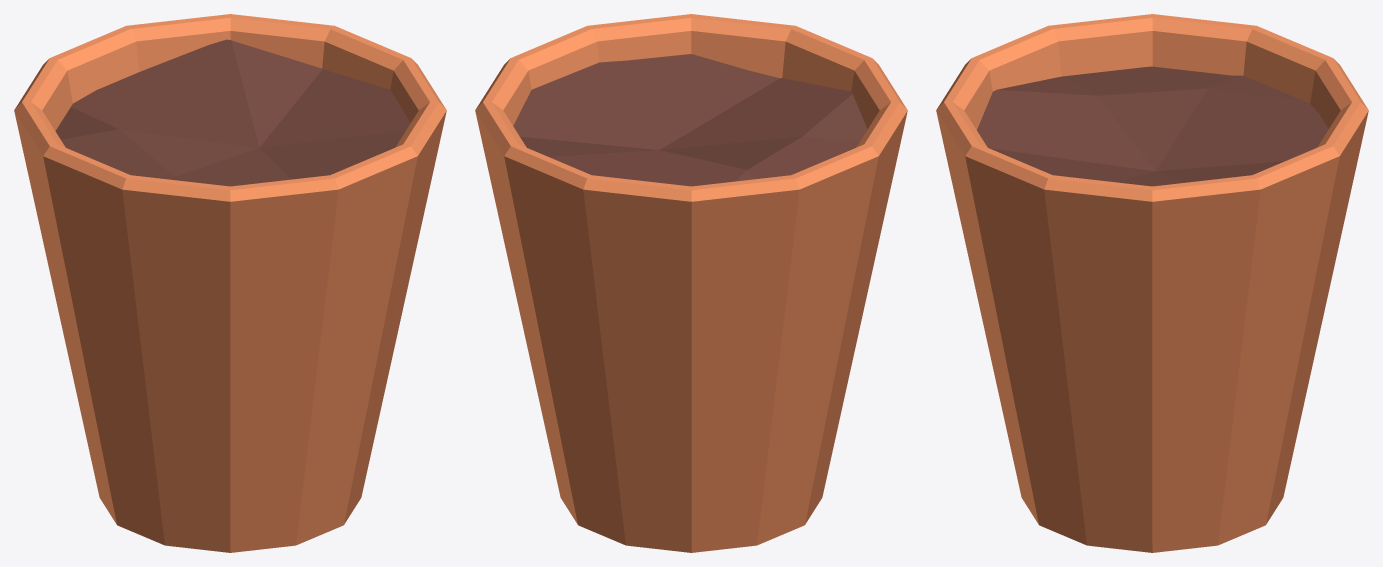
Rendered from Pot.001.fbx.
The picture shows the model from 3 angles, left to right: view 1: azimuth 30°, elevation 25°; view 2: azimuth 150°, elevation 25°; view 3: azimuth 270°, elevation 25°; orthographic projection.
Visible parts, largest first — view 1: Pot.001; view 2: Pot.001; view 3: Pot.001.
Boxes of the visible parts, x1,y1,x2,y2 form: Pot.001: (14, 14, 446, 552); Pot.001: (475, 14, 907, 552); Pot.001: (936, 14, 1368, 552).
Size of the model in its own units: 0.7933 by 0.8 by 0.7933.
